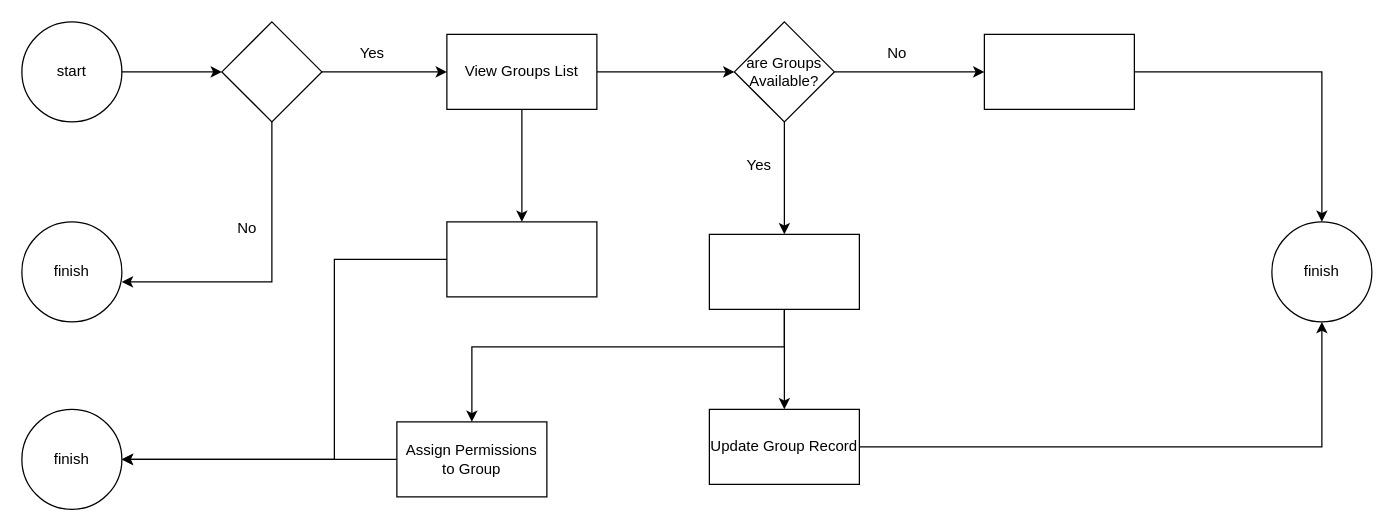
This 1394x531 diagram has some shape labels left out. Each missing label, with the centre of its shape:
"Create Group Record" belongs at [1058,71].
"Delete Group Record" belongs at [521,259].
"is User Admin?" belongs at [271,71].
"View Single Group Record" belongs at [783,271].
